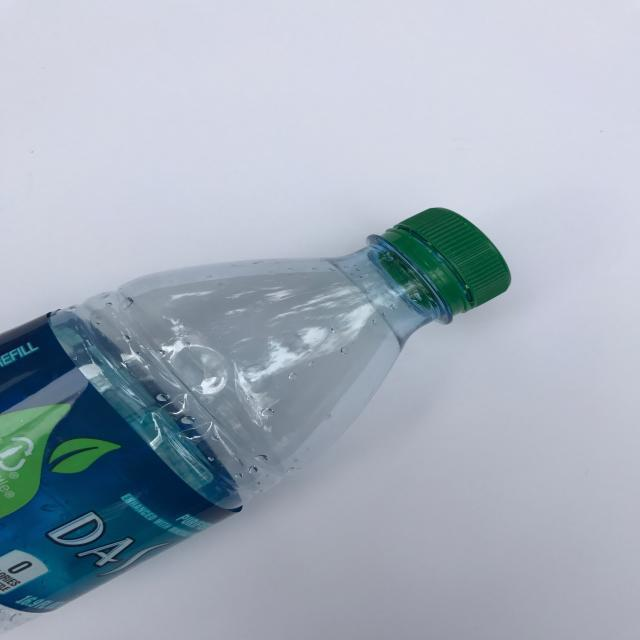plastic: (2, 202, 516, 638)
